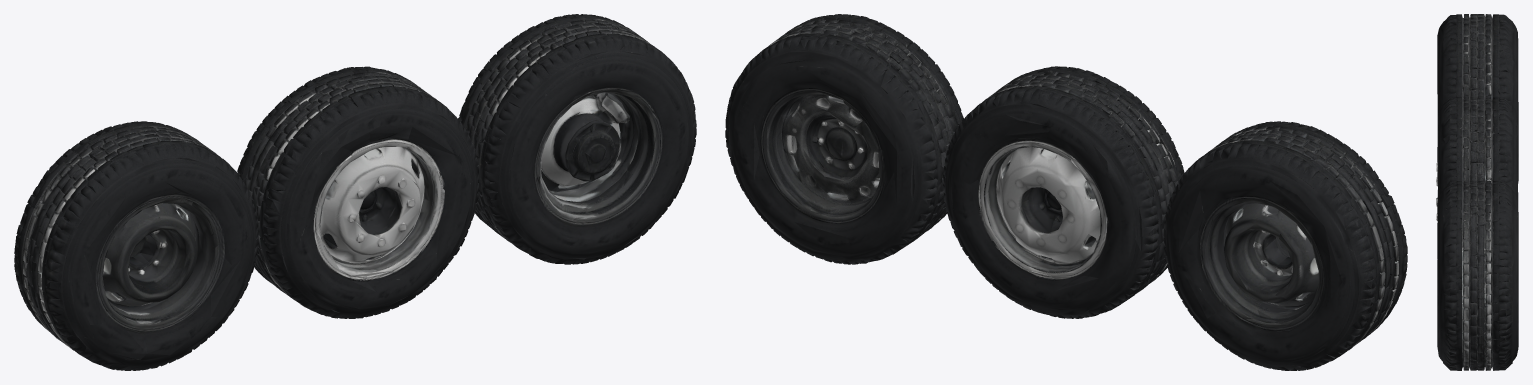
Rendered from 3_wheels.glb.
3 renders of one model, left to right at view 1: azimuth 30°, elevation 25°; view 2: azimuth 150°, elevation 25°; view 3: azimuth 270°, elevation 25°, orthographic. The views are drawn at different scales.
Parts seen in each view (by area): view 1: Mesh_0; view 2: Mesh_0; view 3: Mesh_0.
Part boxes in pixels (x1=…): Mesh_0: x1=14, y1=14, x2=696, y2=370; Mesh_0: x1=725, y1=14, x2=1407, y2=370; Mesh_0: x1=1436, y1=14, x2=1518, y2=370.
Size of the model in its own units: 1.98 by 0.65 by 0.279.
1 material, 1 textured.
